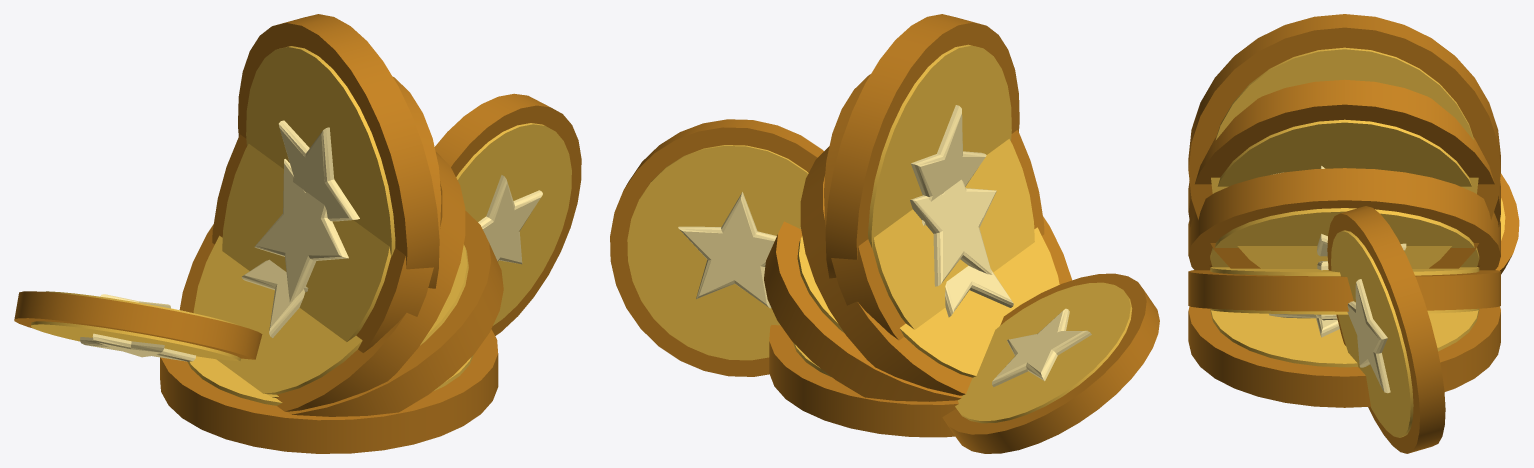
Rendered from CoinStack.glb.
The picture shows the model from 3 angles, left to right: view 1: azimuth 30°, elevation 25°; view 2: azimuth 150°, elevation 25°; view 3: azimuth 270°, elevation 25°; orthographic projection. The views are drawn at different scales.
Parts seen in each view (by area): view 1: Body; view 2: Body; view 3: Body.
Boxes of the visible parts, x1=… form: Body: x1=14, y1=14, x2=581, y2=453; Body: x1=610, y1=14, x2=1159, y2=453; Body: x1=1188, y1=14, x2=1519, y2=453.
Size of the model in its own units: 2.82 by 1.83 by 1.59.
1 material, 1 textured.
